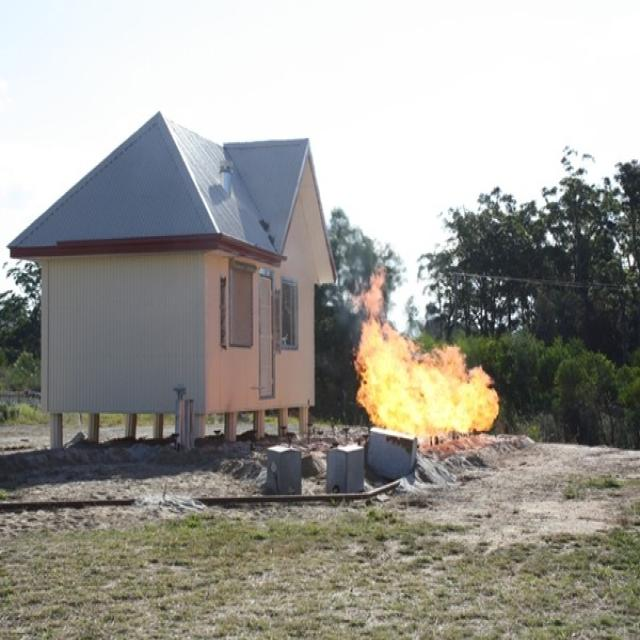fire: (358, 330, 495, 439)
